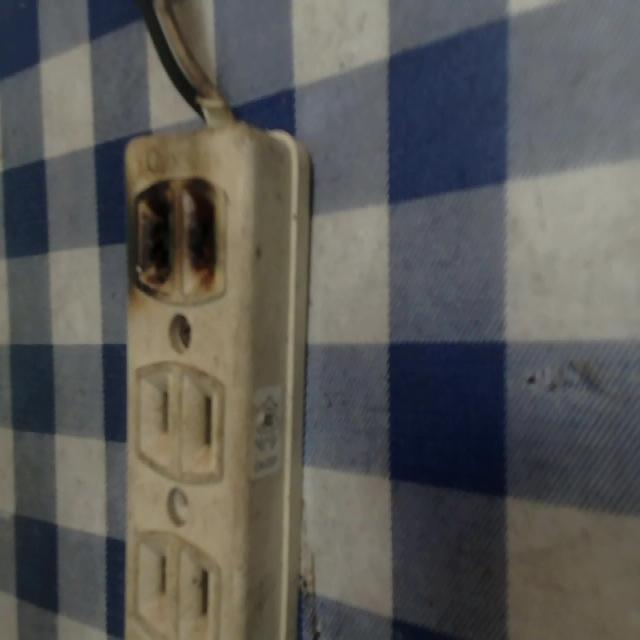-: (118, 175, 248, 305)
